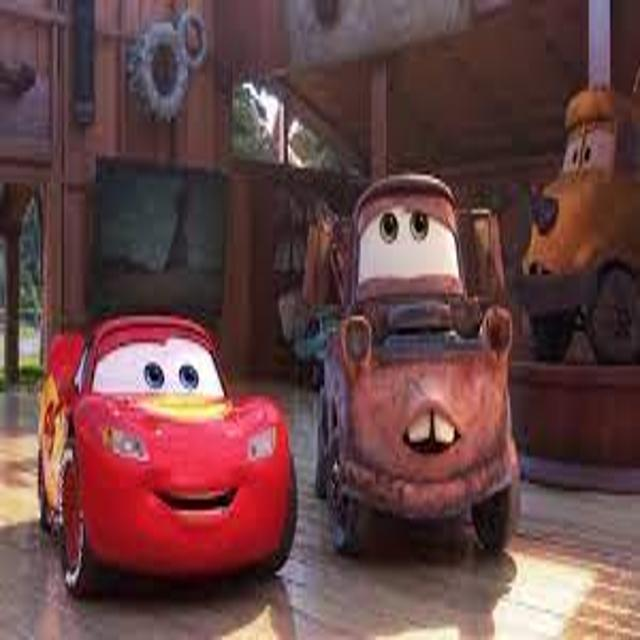car: (314, 173, 520, 554), (38, 315, 297, 598)
